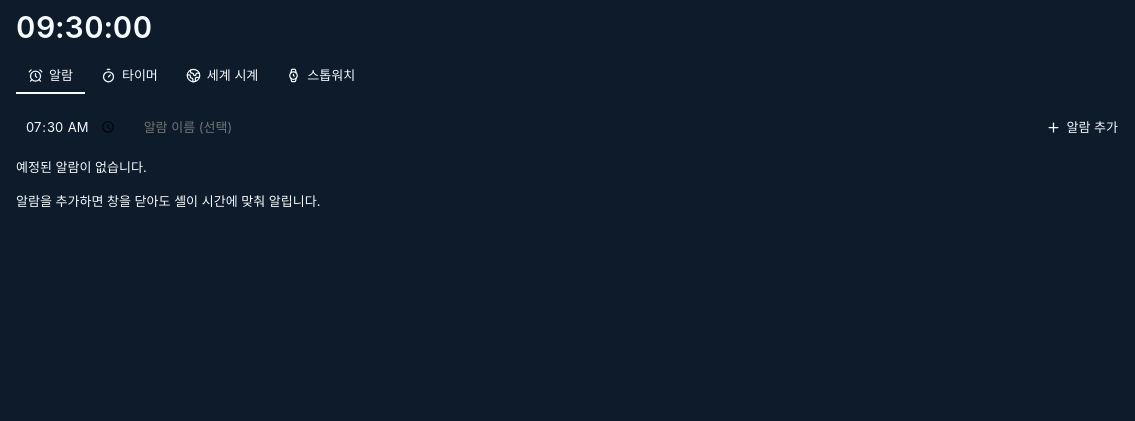
타이머 › takes a preset, counts down while running, and pauses where it stands
The width and height of the screenshot is (1135, 421).
Click the tab "타이머" at (129, 76), box top-left (89, 58), bottom-right (170, 94)
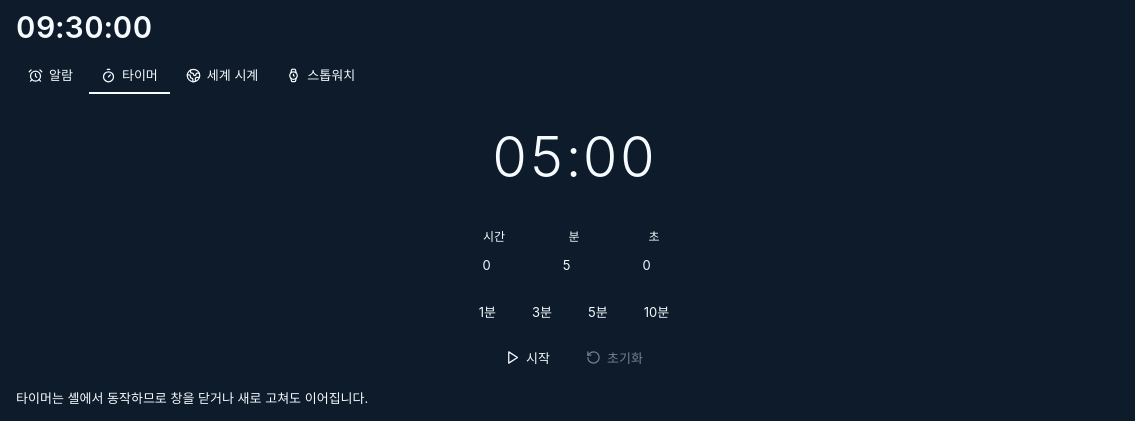
expect the text "05:00" is shown: met, box top-left (492, 123), bottom-right (656, 191)
Click the button "1분" at (487, 312), box top-left (465, 296), bottom-right (510, 328)
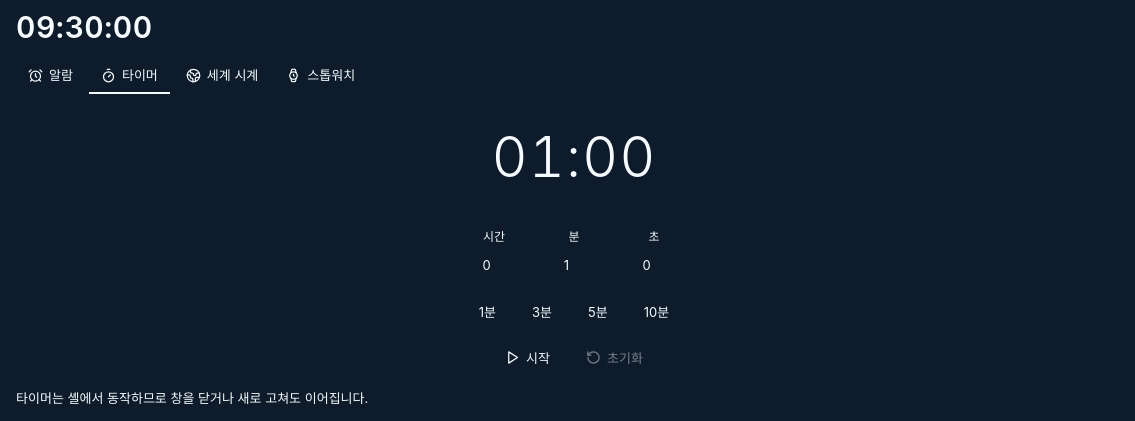
expect the text "01:00" is shown: met, box top-left (492, 123), bottom-right (656, 191)
Click the button "시작" at (528, 358), box top-left (491, 342), bottom-right (564, 374)
Wait 30000 ms
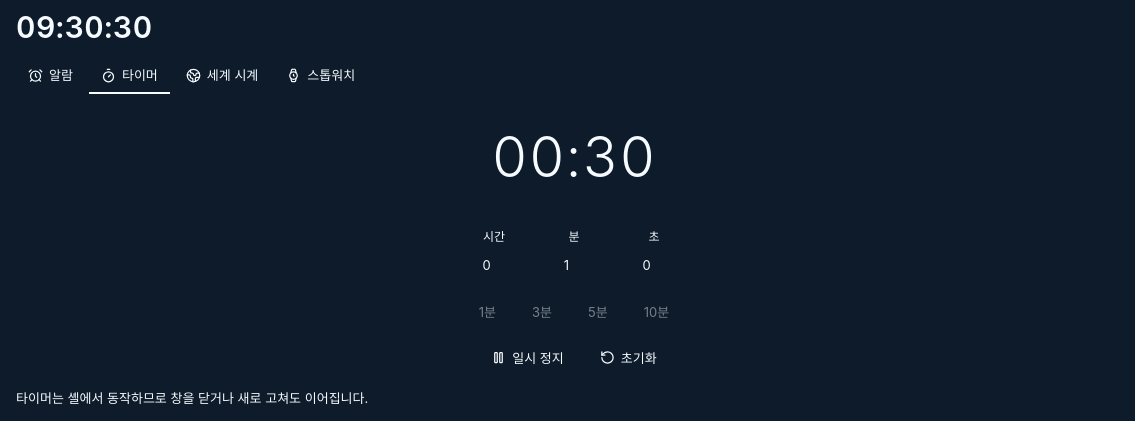
expect the number field named "타이머 시간 (분)" is disabled: met, box top-left (539, 249), bottom-right (609, 282)
expect the text "00:30" is shown: met, box top-left (492, 123), bottom-right (656, 191)
Click the button "일시 정지" at (528, 358), box top-left (477, 342), bottom-right (578, 374)
Wait 30000 ms
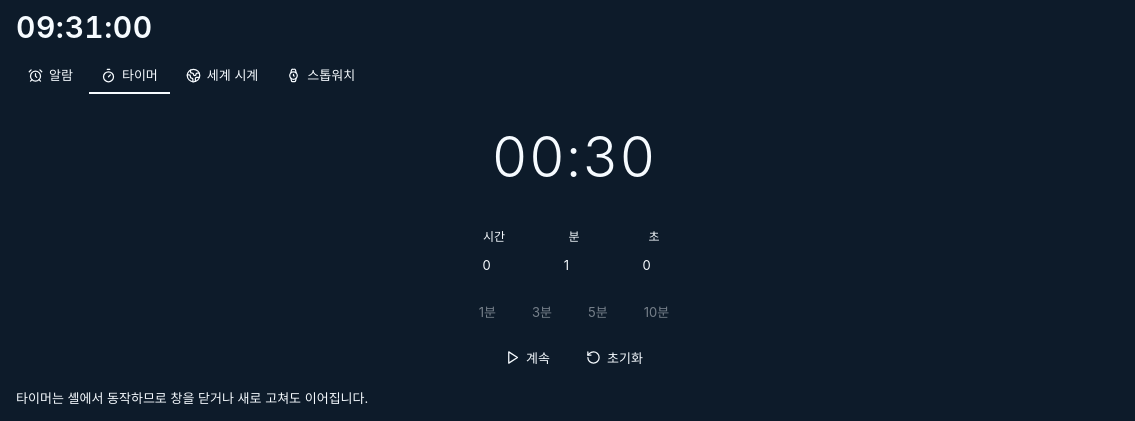
expect the text "00:30" is shown: met, box top-left (492, 123), bottom-right (656, 191)
Click the button "초기화" at (614, 358), box top-left (572, 342), bottom-right (657, 374)
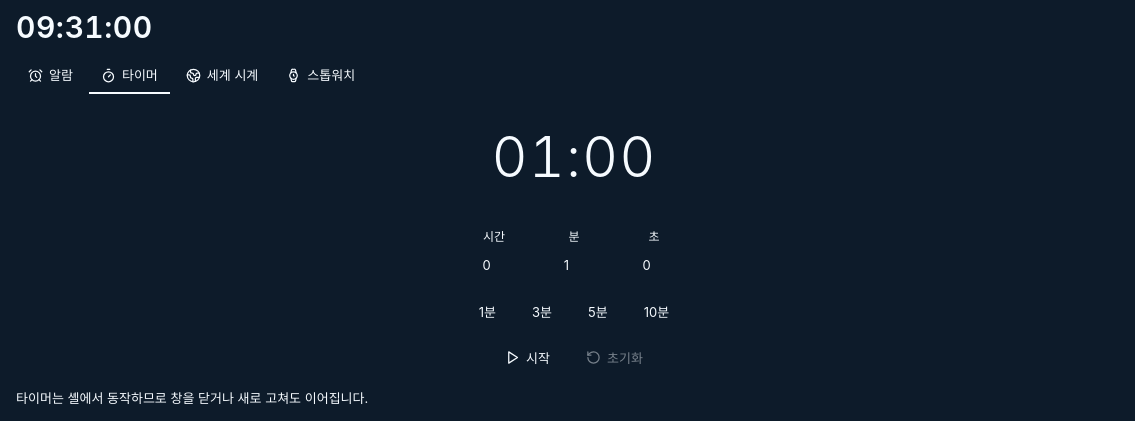
expect the number field named "타이머 시간 (분)" is enabled: met, box top-left (539, 249), bottom-right (609, 282)
expect the text "01:00" is shown: met, box top-left (492, 123), bottom-right (656, 191)
